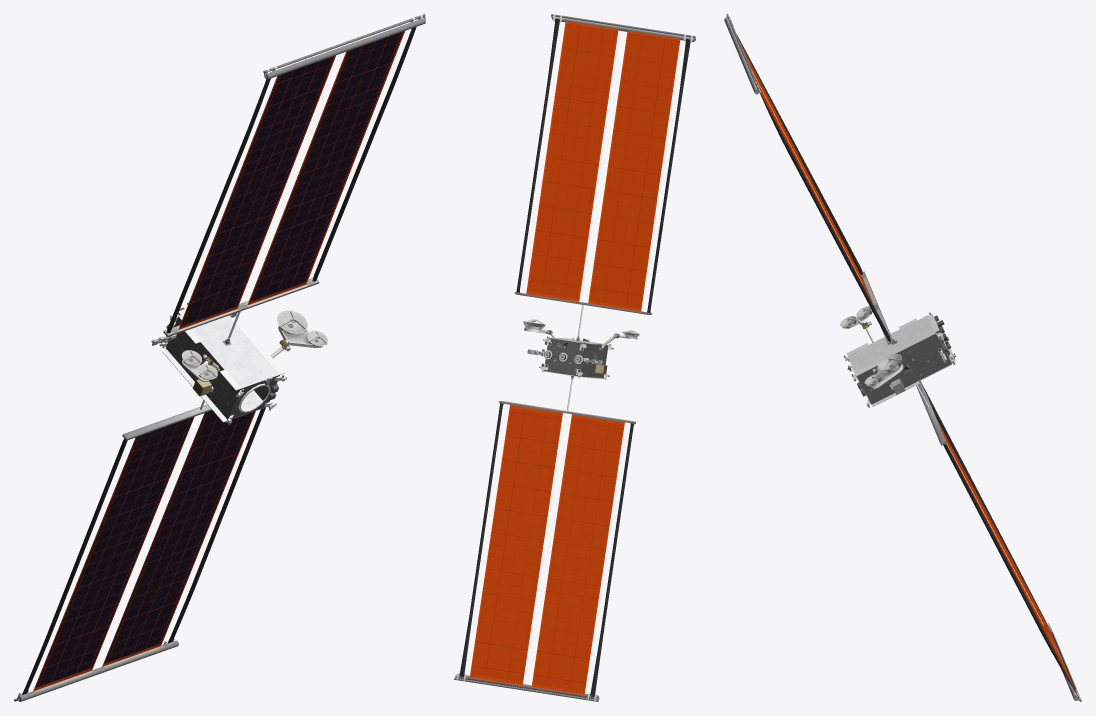
Rendered from maxar_ppe.dae.
The picture shows the model from 3 angles, left to right: view 1: azimuth 30°, elevation 25°; view 2: azimuth 150°, elevation 25°; view 3: azimuth 270°, elevation 25°; orthographic projection. The views are drawn at different scales.
Parts seen in each view (by area): view 1: Maxar_PPE Array.001, Maxar_PPE.002; view 2: Maxar_PPE Array.001, Maxar_PPE.002; view 3: Maxar_PPE Array.001, Maxar_PPE.002.
Part boxes in pixels (<box>): Maxar_PPE Array.001: <box>14,14,425,701</box>; Maxar_PPE.002: <box>151,302,327,424</box>; Maxar_PPE Array.001: <box>454,14,695,701</box>; Maxar_PPE.002: <box>523,319,639,379</box>; Maxar_PPE Array.001: <box>724,14,1081,701</box>; Maxar_PPE.002: <box>840,306,956,407</box>.
Bounding box in the file's own units: 12.81 × 19.78 × 38.97.
Materials: 2 (2 with a texture image).
